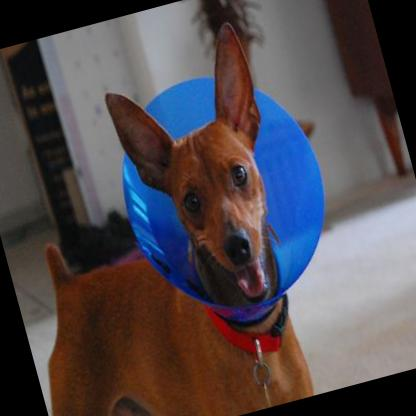miniature_pinscher: (0, 14, 335, 416)
